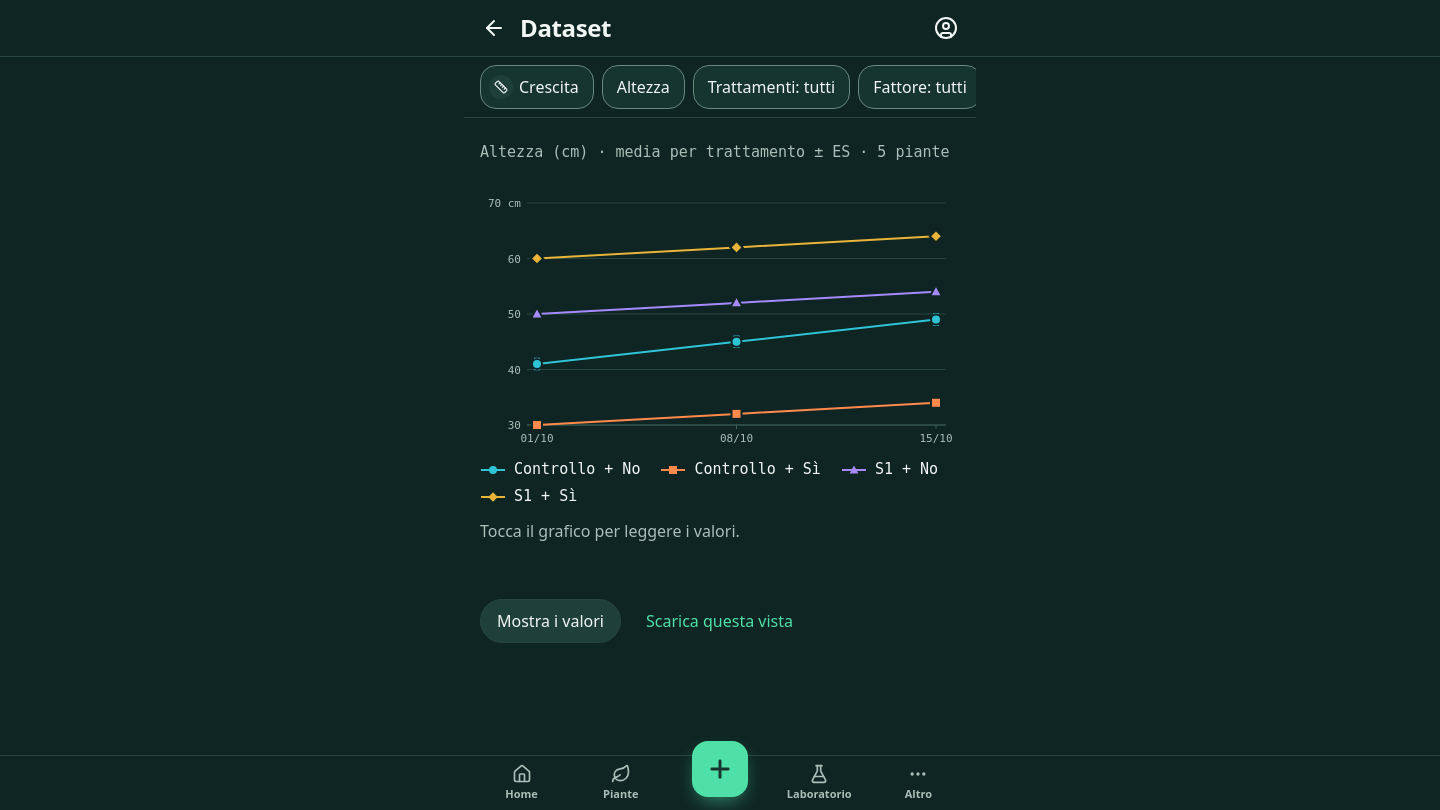
Test case: Dataset: i pannelli dei filtri › strumenti: scelta singola, con gli archiviati in fondo
Click the button "Crescita" at point(537, 87), box x1=480 y1=65 x2=594 y2=109
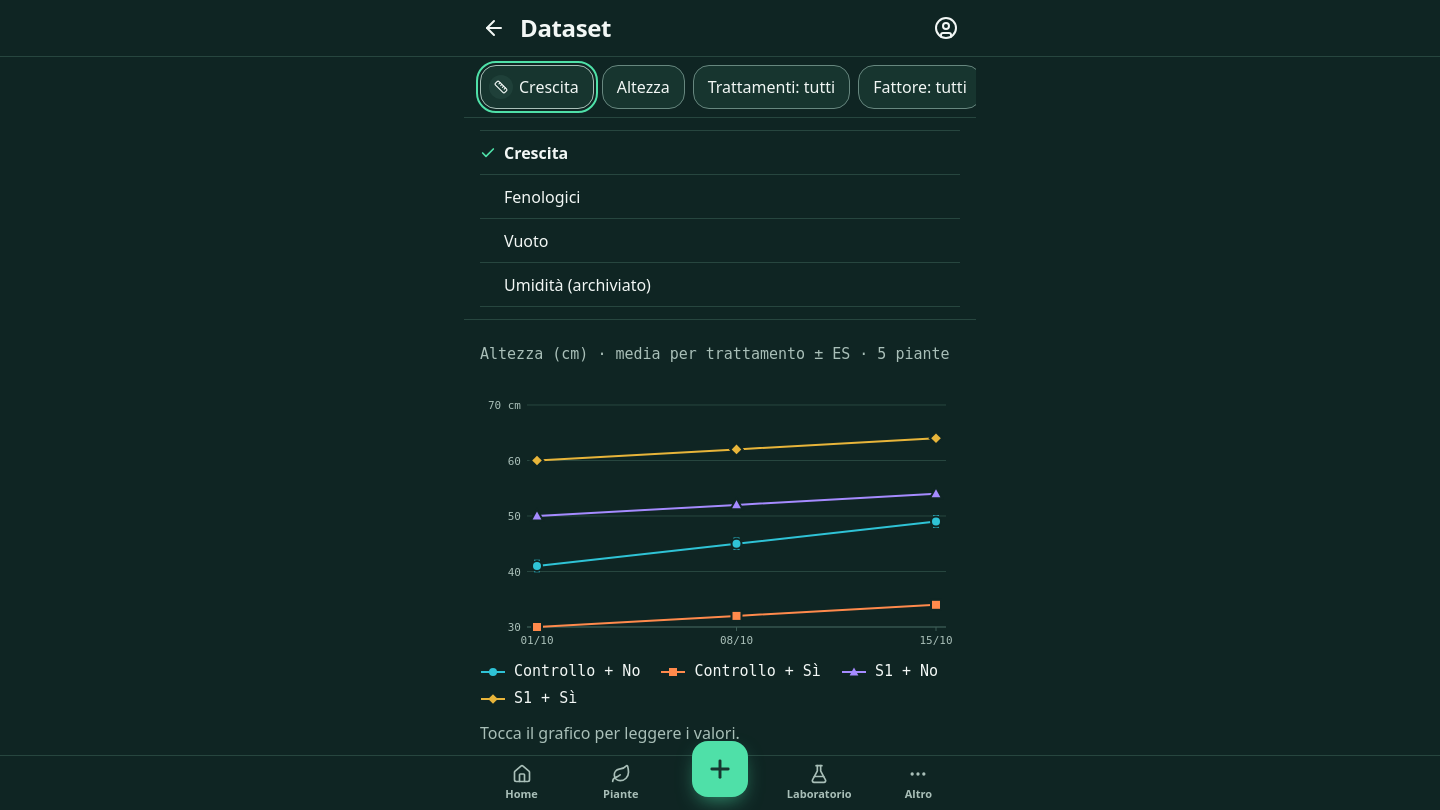
Check: the radio buttons read "Crescita", "Fenologici", "Vuoto", "Umidità (archiviato)", in this order, box x1=480 y1=131 x2=960 y2=175; x1=480 y1=175 x2=960 y2=219; x1=480 y1=219 x2=960 y2=263; x1=480 y1=263 x2=960 y2=307
